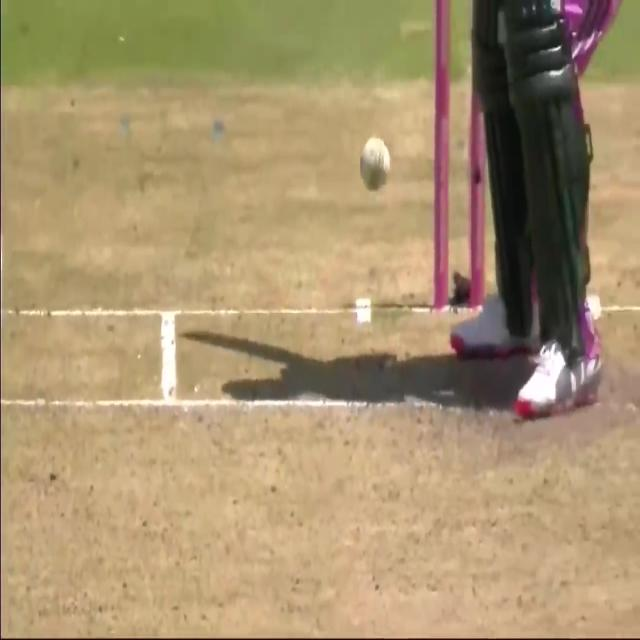Ball: (381, 0, 612, 468)
Batsman: (355, 129, 392, 198)
